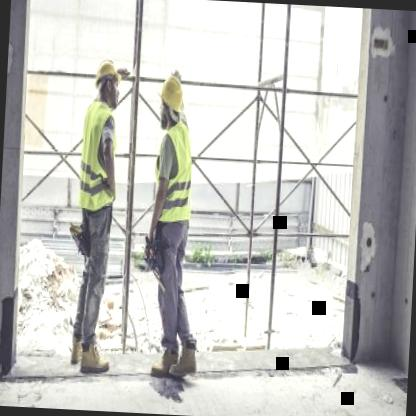helmet: (156, 67, 187, 130), (92, 57, 123, 104)
